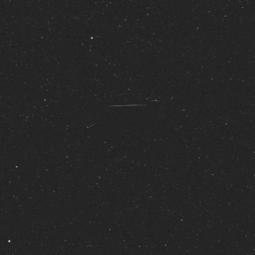xmm_newton: (44, 86, 178, 153)
